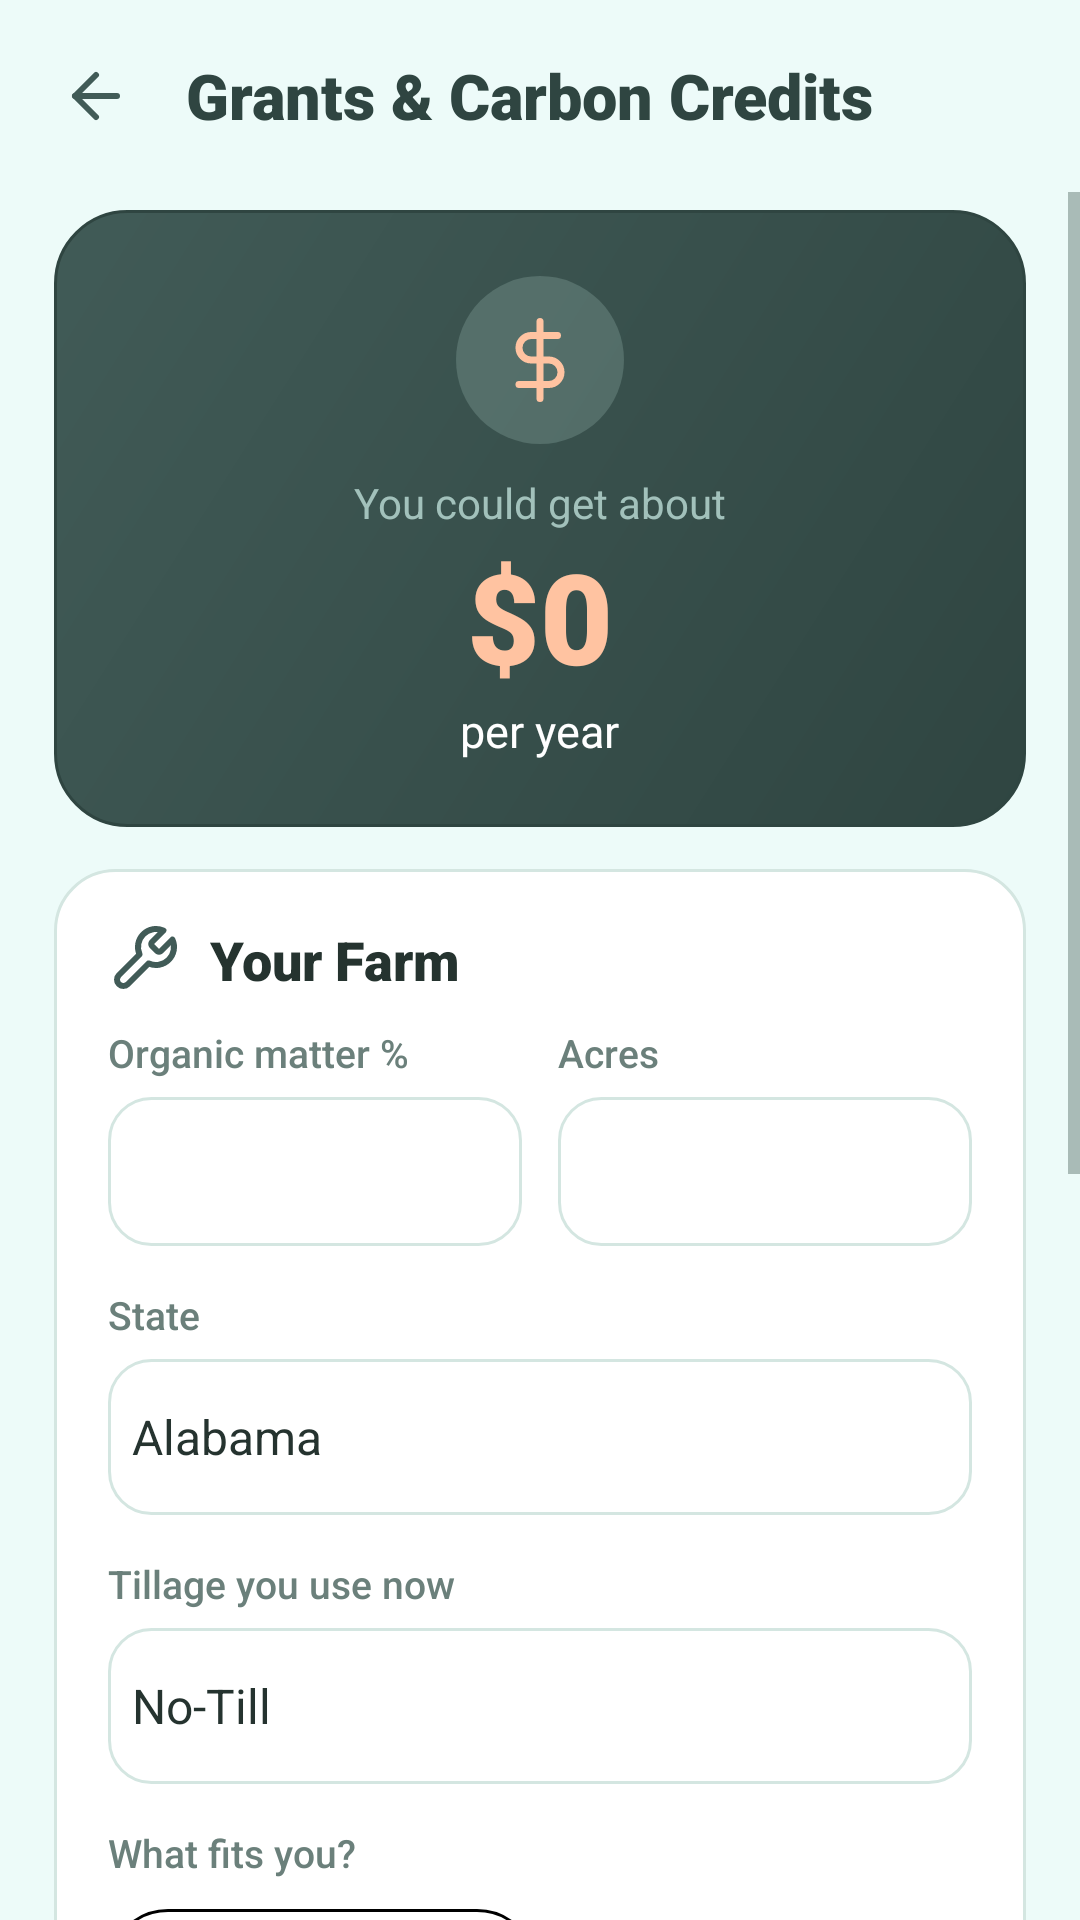

Icons on this 1080px x 1920px Android screen, each with the point to tap as (x=x, y=y):
Money: (x=540, y=360)
